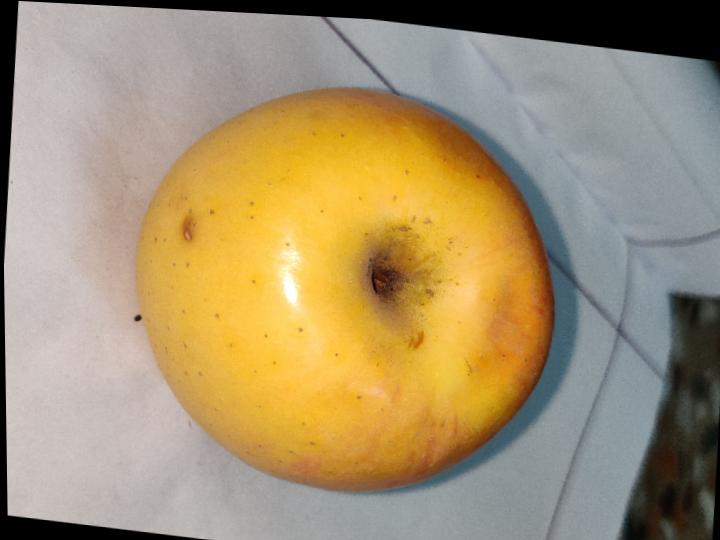apple: (136, 89, 554, 491)
surface_damage: (183, 217, 193, 241)
